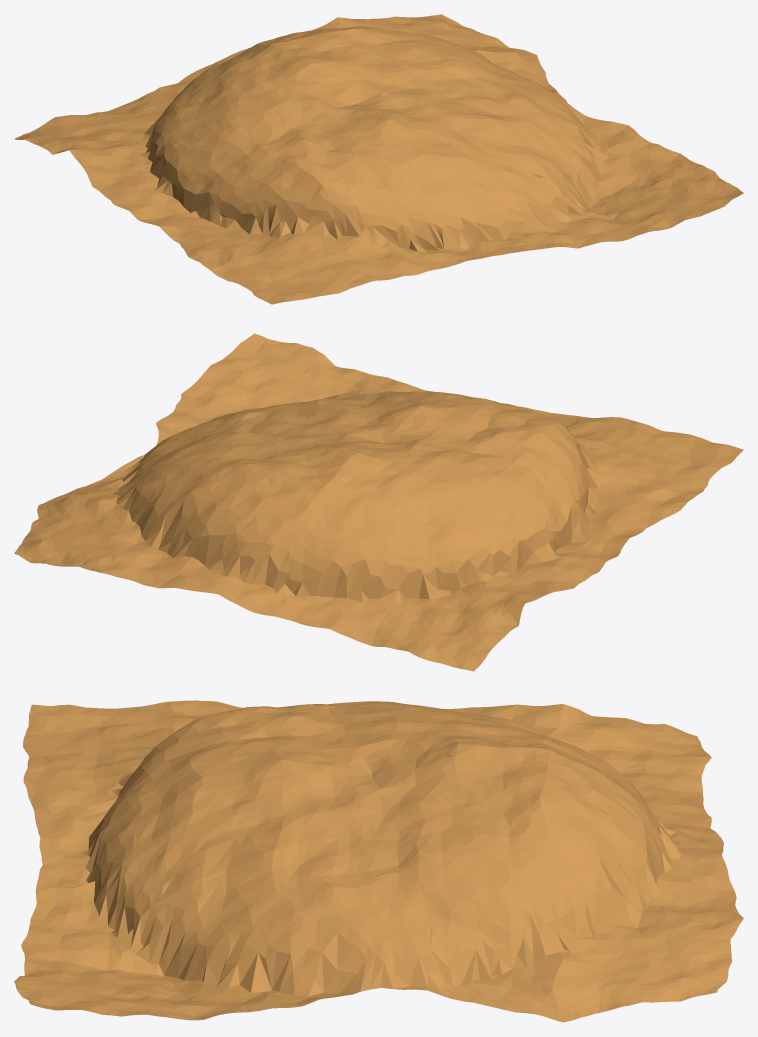
The model's file is Island.fbx.
The picture shows the model from 3 angles, top to bottom: view 1: azimuth 30°, elevation 25°; view 2: azimuth 150°, elevation 25°; view 3: azimuth 270°, elevation 25°; orthographic projection. The views are drawn at different scales.
Parts seen in each view (by area): view 1: Environment_1; view 2: Environment_1; view 3: Environment_1.
Part boxes in pixels (bbox=[...]): Environment_1: bbox=[14, 14, 743, 304]; Environment_1: bbox=[14, 333, 743, 671]; Environment_1: bbox=[14, 700, 743, 1022].
Bounding box in the file's own units: 8569 × 1678 × 8619.
